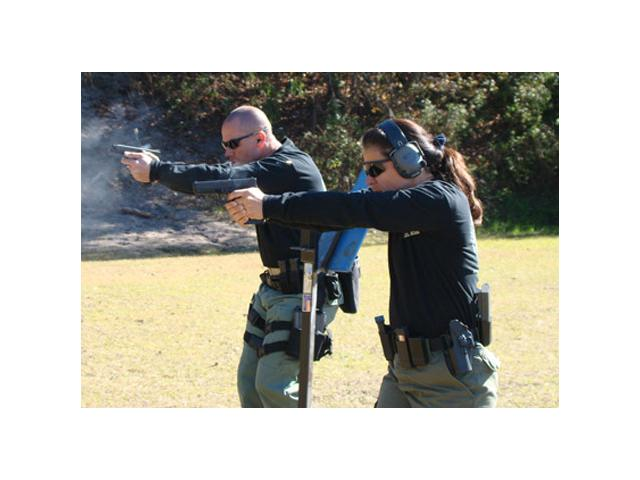pistol: (188, 173, 265, 230), (109, 143, 162, 185)
